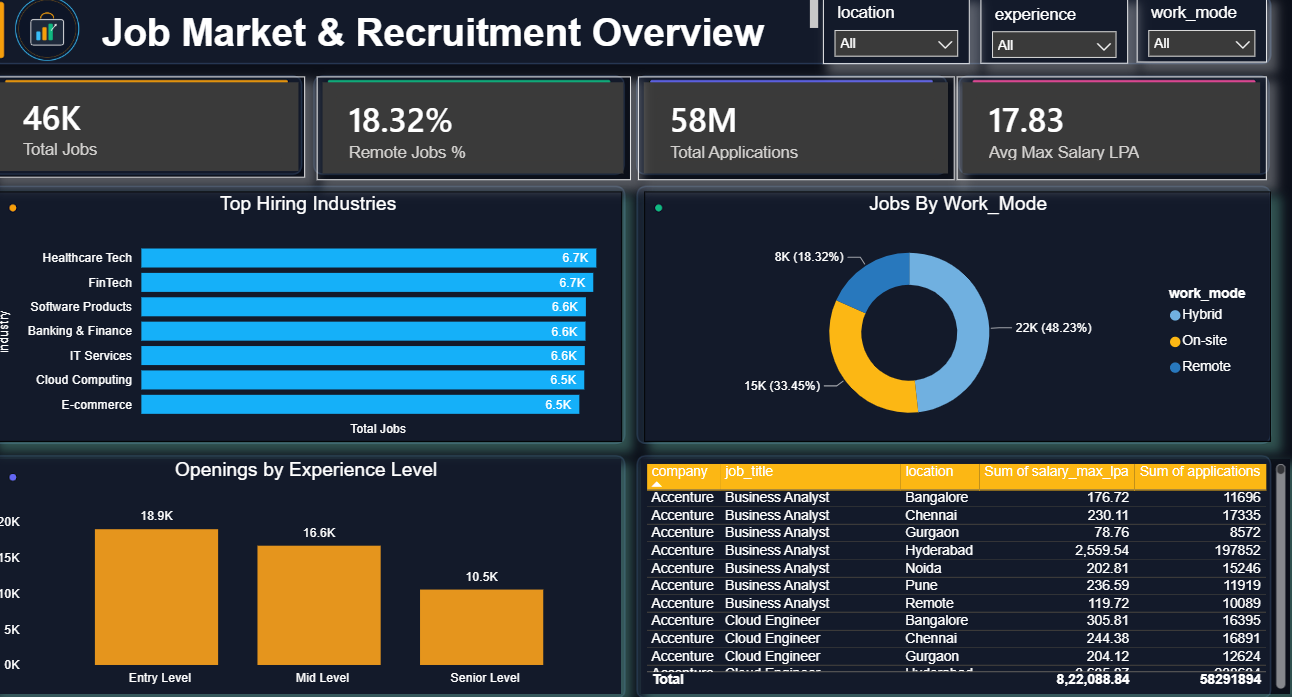

The page's visual inventory and layout, read from the dashboard file:
{"tool":"powerbi","page":{"name":"Page 1","canvas":[1280,720],"ordinal":0},"visuals":[{"type":"textbox","box":[103.8,9.7,721.5,73.6],"z":0},{"type":"slicer","title":"Location","fields":{"Values":["job data.location"]},"box":[825,17.5,141.2,63.8],"z":1000},{"type":"slicer","fields":{"Values":["job data.work_mode"]},"box":[1127.5,17.5,125.5,62.7],"z":2000},{"type":"slicer","fields":{"Values":["job data.experience"]},"box":[977.5,18.8,142.4,62.7],"z":3000},{"type":"cardVisual","fields":{"Data":["job data.Total Jobs"]},"box":[22.5,93.8,302.5,97.5],"z":4000},{"type":"cardVisual","fields":{"Data":["job data.Total Applications"]},"box":[646.2,93.8,305.2,100.1],"z":5000},{"type":"cardVisual","fields":{"Data":["job data.Avg Max Salary"]},"box":[953.8,93.8,299.2,100.1],"z":6000},{"type":"cardVisual","fields":{"Data":["job data.Remote Jobs %"]},"box":[336.2,93.8,302.8,100.1],"z":7000},{"type":"clusteredBarChart","title":"Top Hiring Industries","fields":{"Category":["job data.industry"],"Y":["job data.Total Jobs"]},"box":[24.1,205.1,606.8,241.3],"z":8000},{"type":"donutChart","title":"Jobs By Work_Mode","fields":{"Category":["job data.work_mode"],"Y":["job data.Total Jobs"]},"box":[652.7,205.1,604.4,241.3],"z":9000},{"type":"clusteredColumnChart","title":"Openings by Experience Level","fields":{"Category":["job data.job_level"],"Y":["job data.Total Jobs"]},"box":[22.9,463.3,606.8,226.8],"z":10000},{"type":"tableEx","fields":{"Values":["job data.company","job data.job_title","job data.location","Sum(job data.salary_max_lpa)","Sum(job data.applications)"]},"box":[649.1,463.3,627.3,226.8],"z":11000},{"type":"image","box":[0,13.3,153.2,70],"z":12000}]}

Visuals, with their boxes on the page's 1280x720 design canvas (x1, y1, x2, y2). These are canvas units, not pixel positions in the 1292x697 screenshot, which may show the page scaled, cropped or inside an application window:
textbox: locate(104, 10, 825, 83)
"Location" slicer: locate(825, 18, 966, 81)
slicer - job data.work_mode: locate(1128, 18, 1253, 80)
slicer - job data.experience: locate(978, 19, 1120, 82)
cardVisual - job data.Total Jobs: locate(22, 94, 325, 191)
cardVisual - job data.Total Applications: locate(646, 94, 951, 194)
cardVisual - job data.Avg Max Salary: locate(954, 94, 1253, 194)
cardVisual - job data.Remote Jobs %: locate(336, 94, 639, 194)
"Top Hiring Industries" clusteredBarChart: locate(24, 205, 631, 446)
"Jobs By Work_Mode" donutChart: locate(653, 205, 1257, 446)
"Openings by Experience Level" clusteredColumnChart: locate(23, 463, 630, 690)
tableEx - job data.company x job data.job_title: locate(649, 463, 1276, 690)
image: locate(0, 13, 153, 83)
